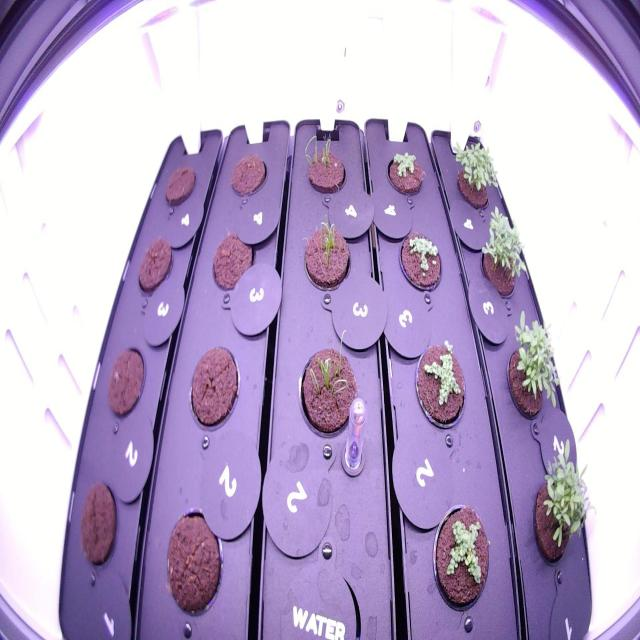germination: (527, 432, 601, 582), (293, 319, 366, 443), (426, 494, 496, 619), (496, 306, 566, 426), (409, 332, 472, 433), (473, 202, 534, 303), (296, 210, 354, 294), (446, 131, 502, 215), (298, 127, 354, 204), (395, 222, 448, 300), (381, 146, 427, 200)
pod: (160, 497, 230, 629), (184, 338, 245, 443), (73, 472, 125, 580), (206, 220, 262, 304), (101, 337, 149, 428), (134, 230, 176, 299), (224, 147, 270, 205), (162, 156, 200, 210)
